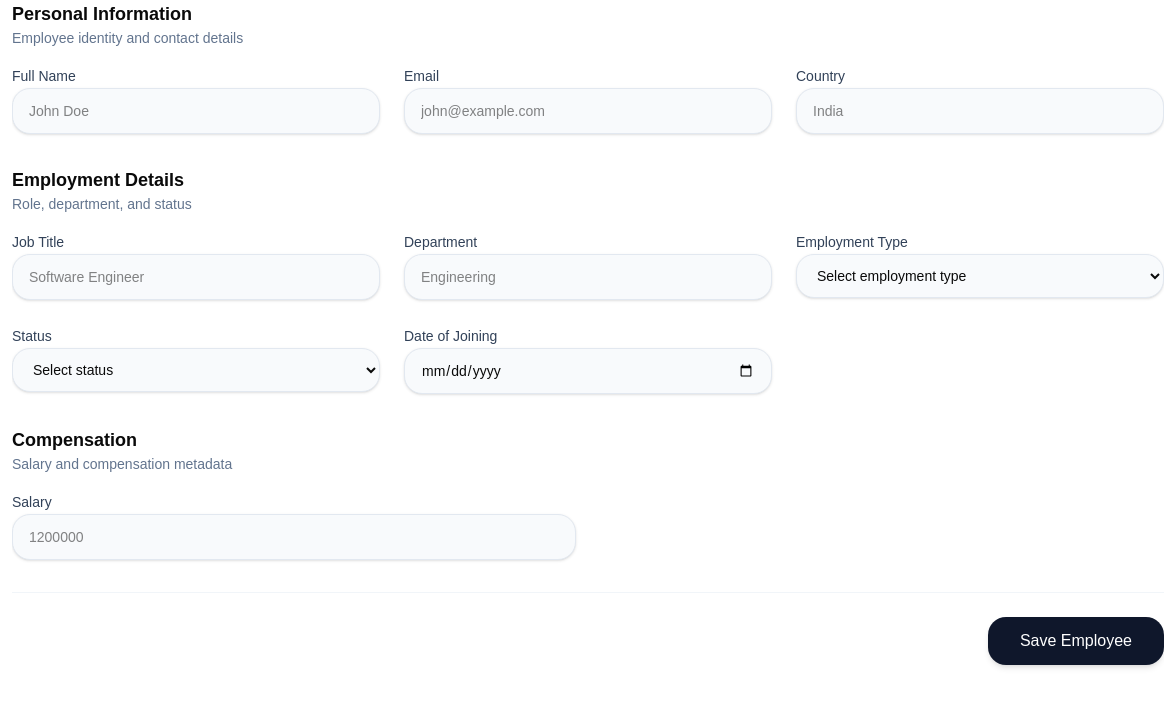
Test: EmployeeForm › shows validation errors for empty submission
Click the button "Save Employee" at (1076, 641), box [988, 617, 1164, 665]
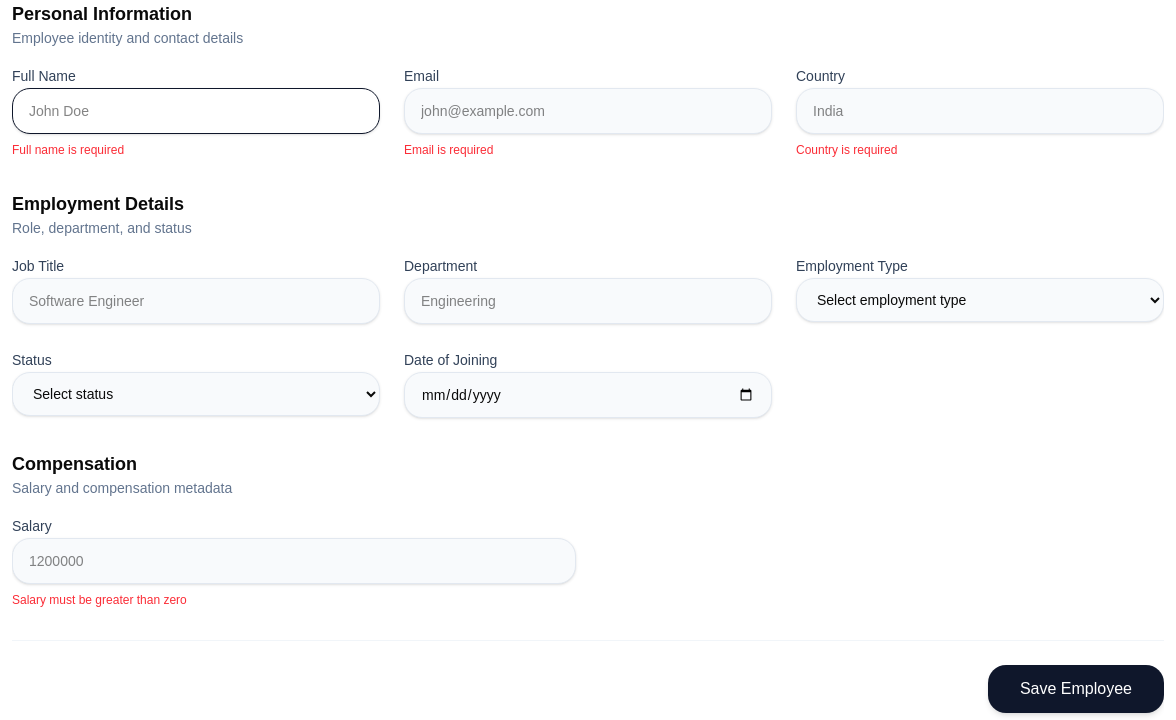
Result: the text "Full name is required" is shown at [12, 143, 124, 157]
Result: the text "Email is required" is shown at [404, 143, 493, 157]
